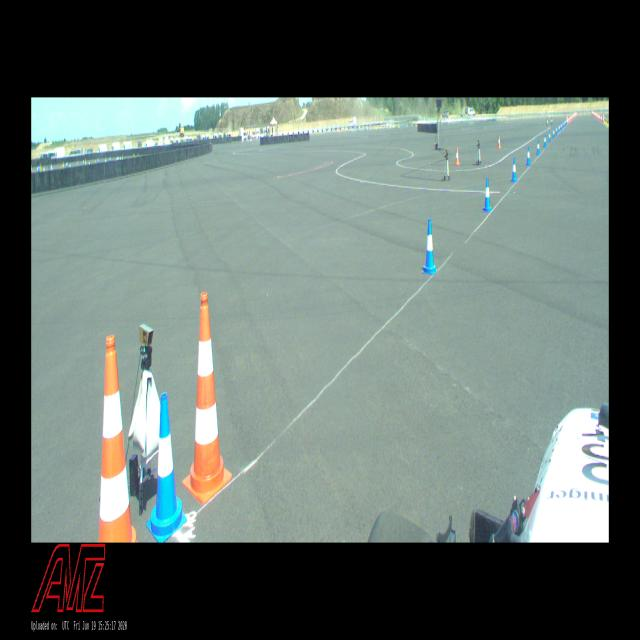blue_cone: (146, 392, 187, 542), (422, 219, 437, 274), (483, 178, 491, 212), (511, 158, 517, 182), (526, 146, 531, 166), (537, 140, 540, 155), (544, 135, 546, 147), (548, 131, 550, 142), (553, 128, 555, 138)
large_orange_cone: (182, 292, 232, 504), (98, 335, 138, 542)
orange_cone: (455, 147, 460, 165), (498, 136, 501, 148)
